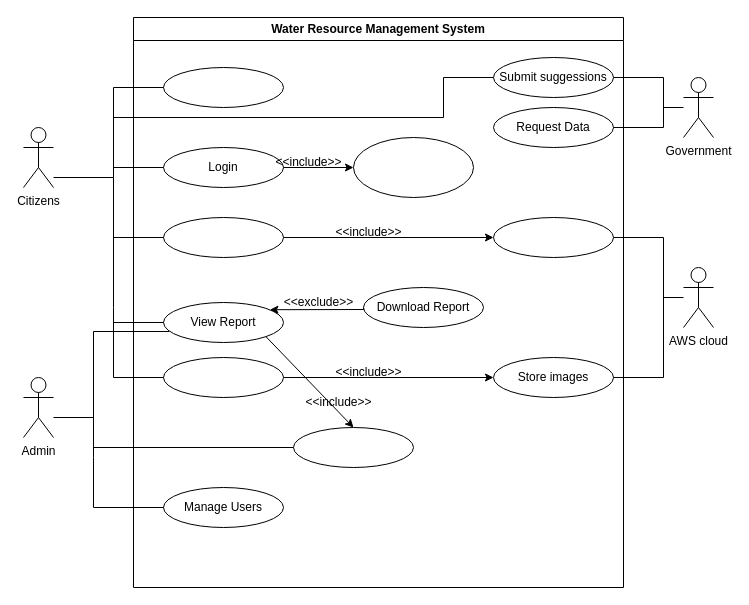
This 749x605 diagram has some shape labels left out. Each missing label, with the centre of its shape:
"Get notifications" belongs at pixel 223 237.
"Register" belongs at pixel 223 87.
"Send Emails" belongs at pixel 553 237.
"Upload Image" belongs at pixel 223 377.
"Validate User name password" belongs at pixel 413 167.
"Verify Report" belongs at pixel 353 447.
